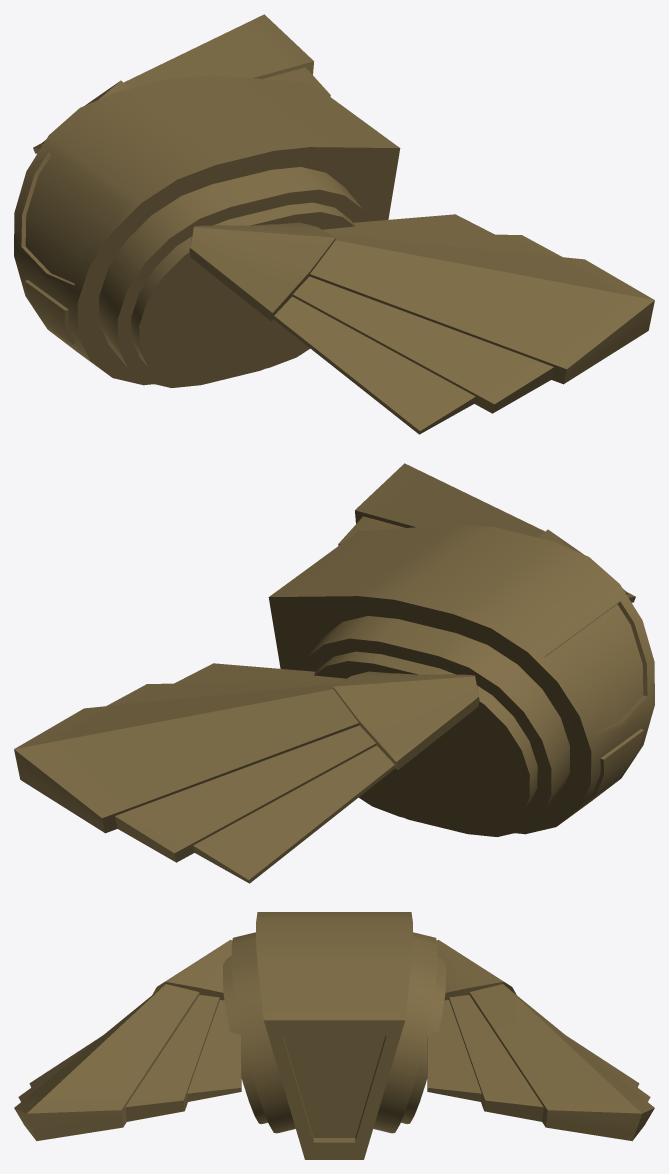
File: CH_Ship_Snitch_Wide.fbx
The picture shows the model from 3 angles, top to bottom: view 1: azimuth 30°, elevation 25°; view 2: azimuth 150°, elevation 25°; view 3: azimuth 270°, elevation 25°; orthographic projection. The views are drawn at different scales.
Visible parts, largest first — view 1: CH_Ship_SnitchWide; view 2: CH_Ship_SnitchWide; view 3: CH_Ship_SnitchWide.
Part boxes in pixels (x1=…): CH_Ship_SnitchWide: x1=14, y1=14, x2=654, y2=434; CH_Ship_SnitchWide: x1=14, y1=463, x2=654, y2=883; CH_Ship_SnitchWide: x1=14, y1=912, x2=654, y2=1159.
Size of the model in its own units: 115 by 64.48 by 196.
